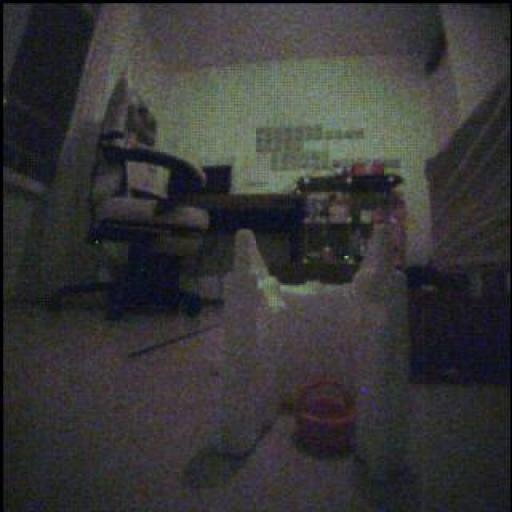basket: (297, 380, 356, 454)
